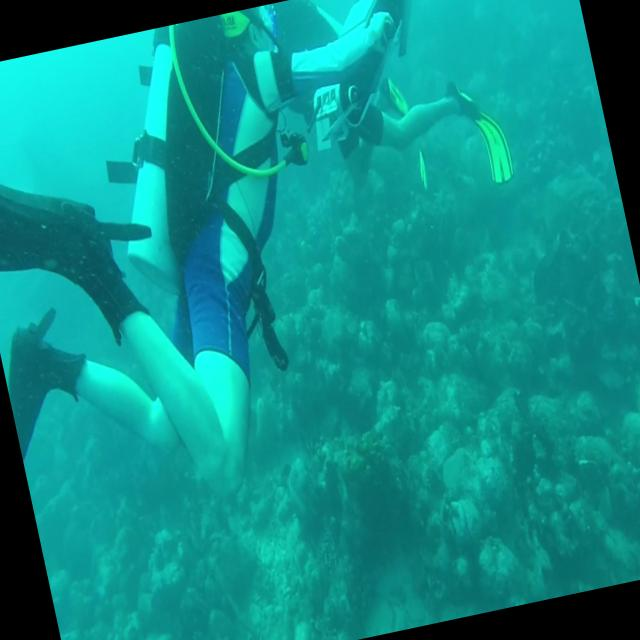human: (0, 1, 378, 538), (253, 0, 522, 241)
